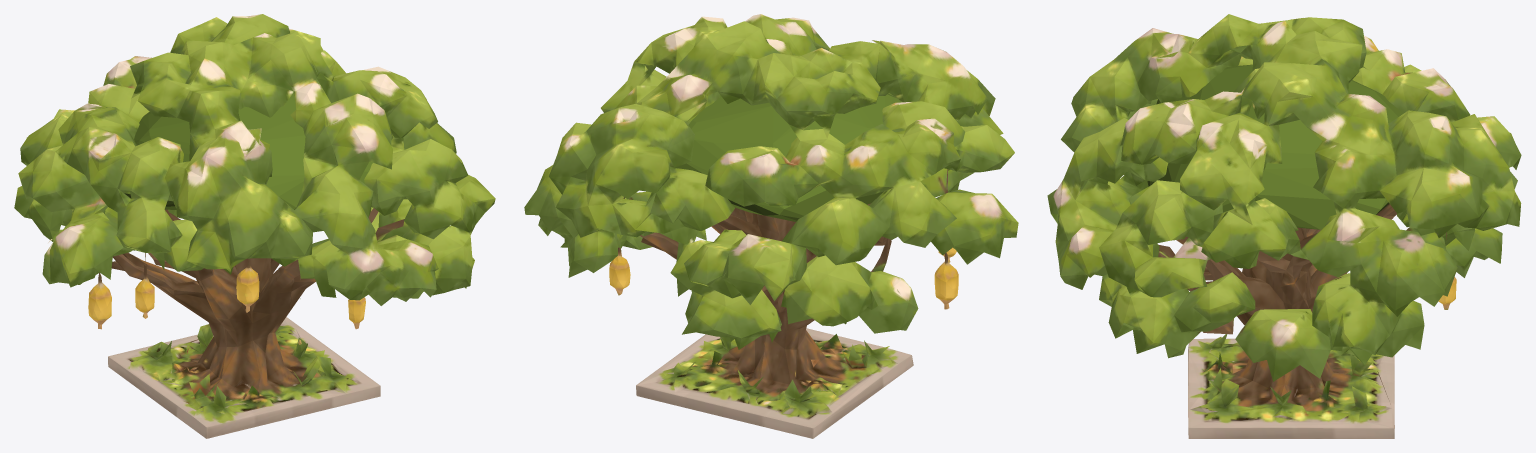
The model's file is tree_banyan.glb.
The picture shows the model from 3 angles, left to right: view 1: azimuth 30°, elevation 25°; view 2: azimuth 150°, elevation 25°; view 3: azimuth 270°, elevation 25°; orthographic projection. The views are drawn at different scales.
Visible parts, largest first — view 1: body, canopy, lanterns; view 2: body, canopy, lanterns; view 3: body, canopy.
Boxes of the visible parts, x1,y1,x2,y2 form: body: (14,14,495,438); canopy: (124,92,372,209); lanterns: (88,268,365,323); body: (524,14,1018,438); canopy: (675,94,902,221); lanterns: (609,247,958,300); body: (1047,14,1521,438); canopy: (1147,64,1403,229).
Bounding box in the file's own units: 12.03 × 9.52 × 11.63.
Materials: 2 (1 with a texture image).
